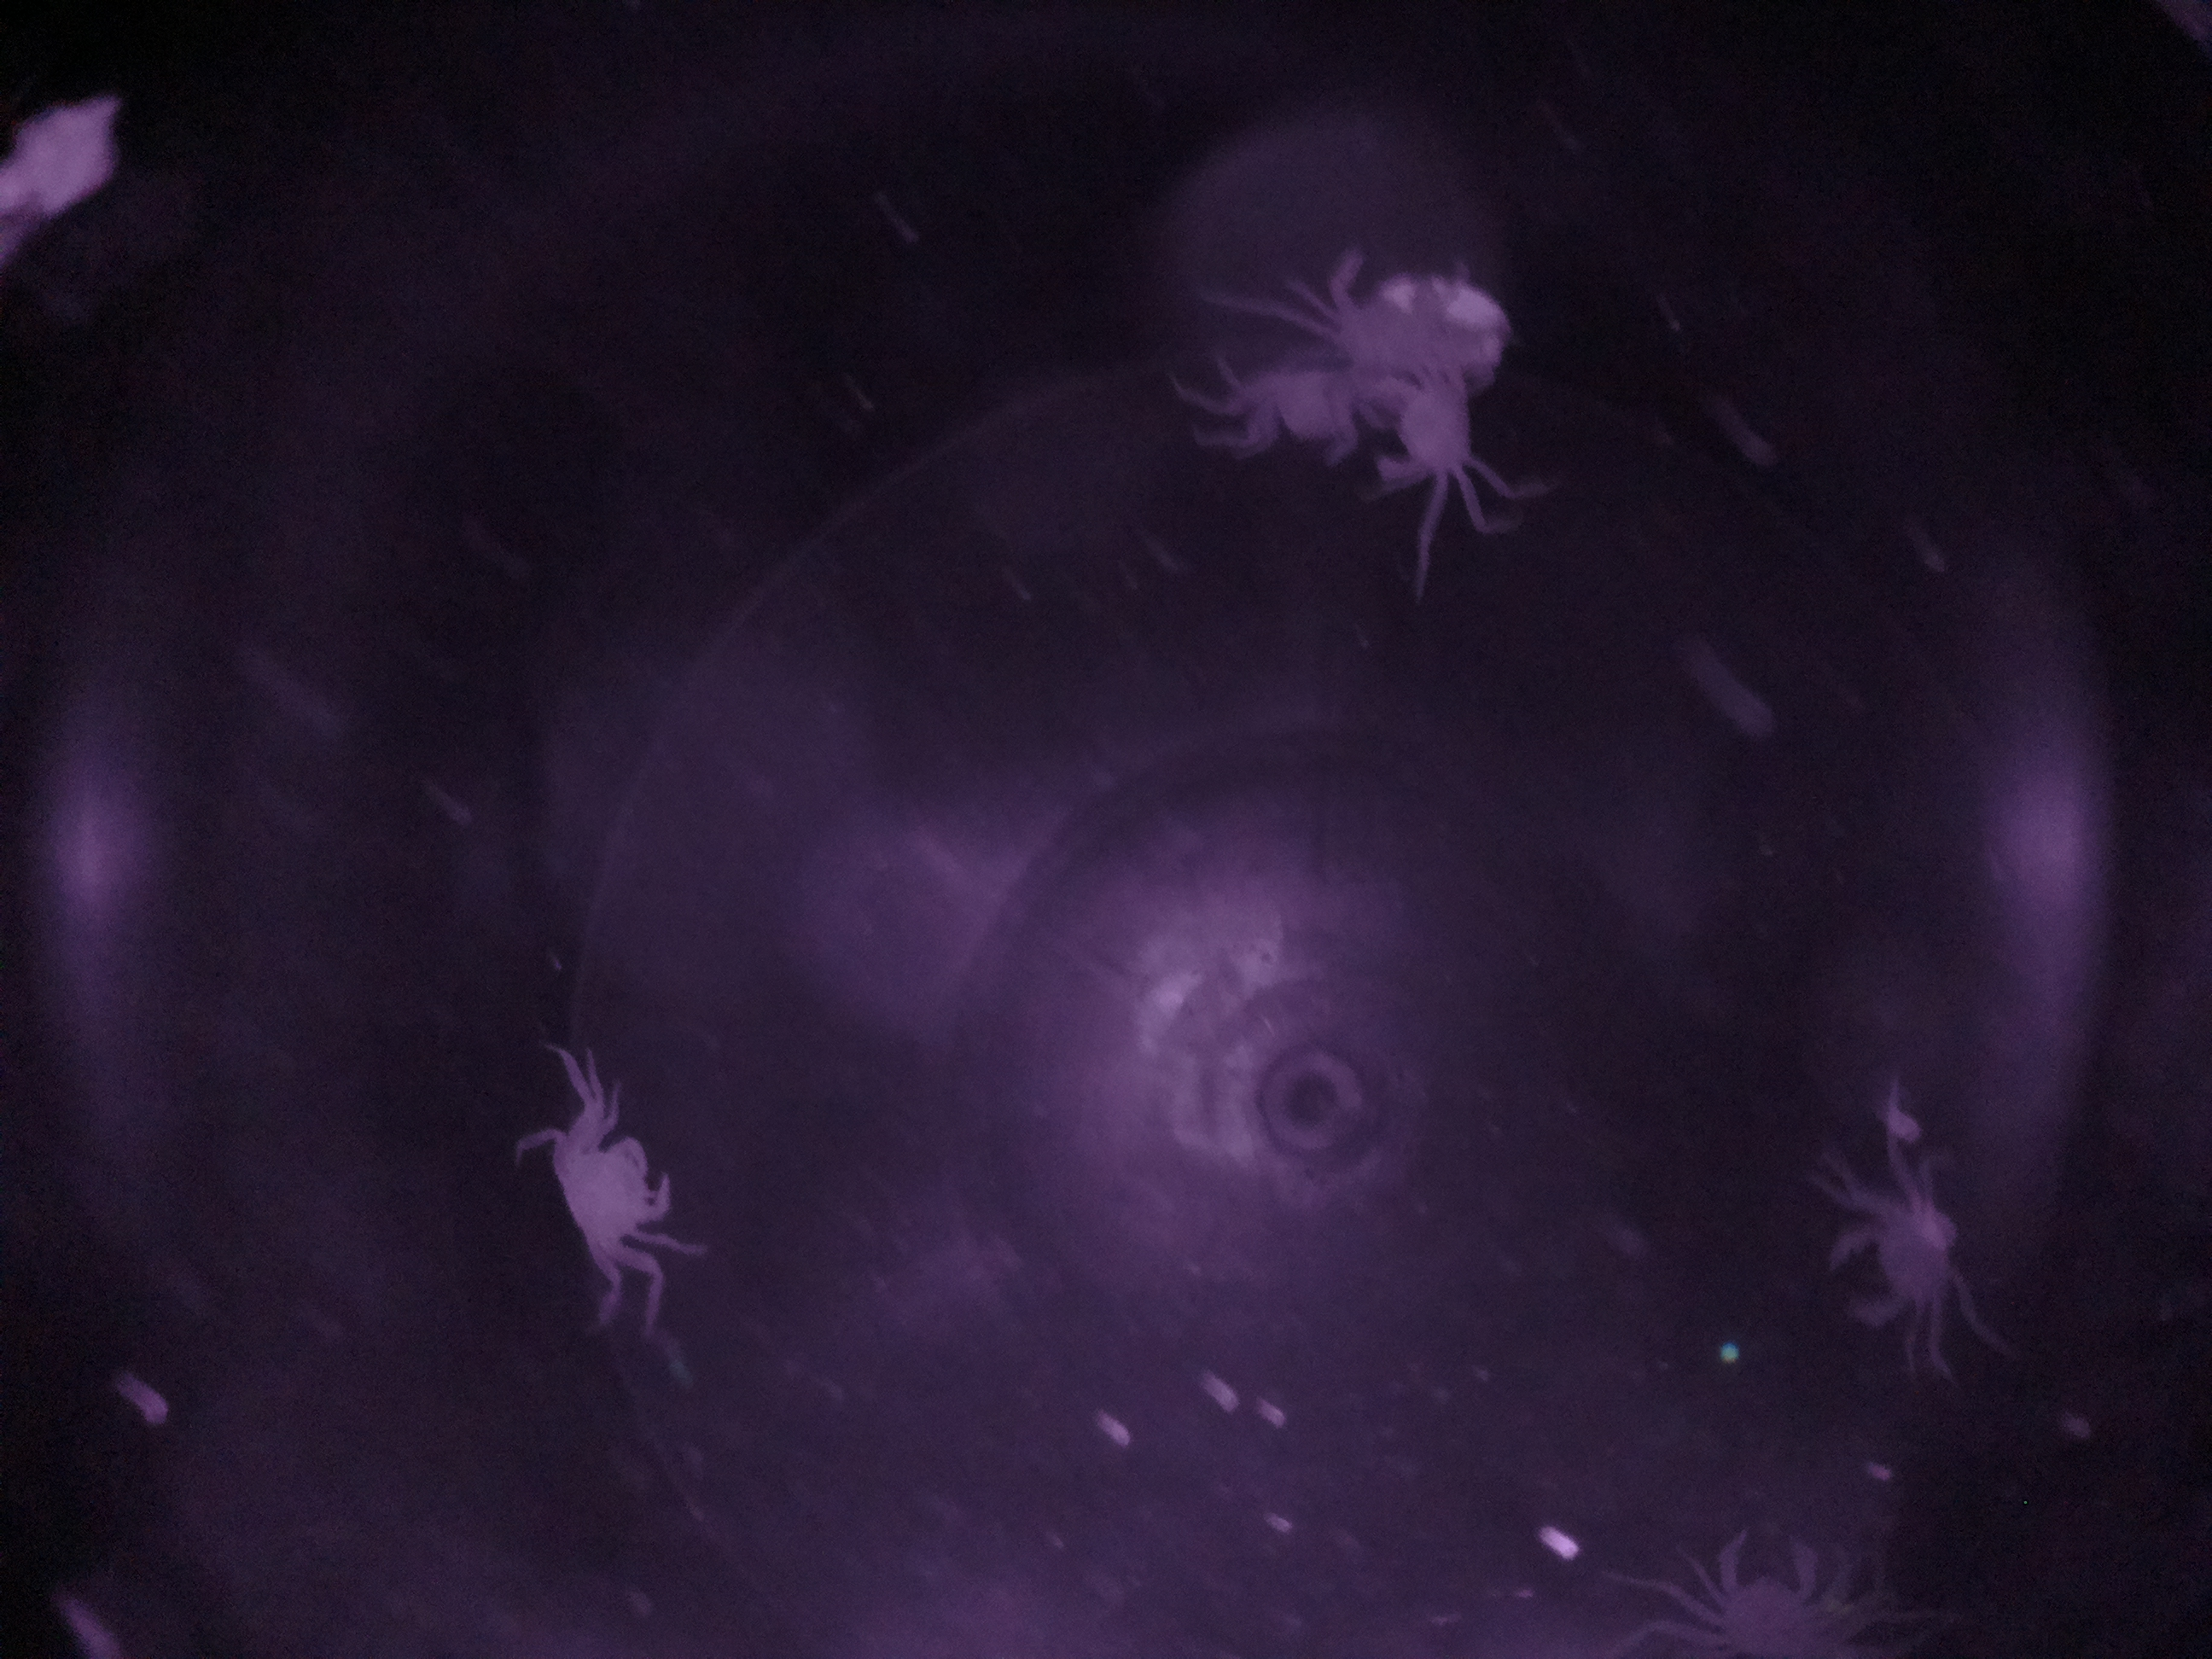Crab: (1818, 1152, 1979, 1377), (535, 1096, 697, 1297)
